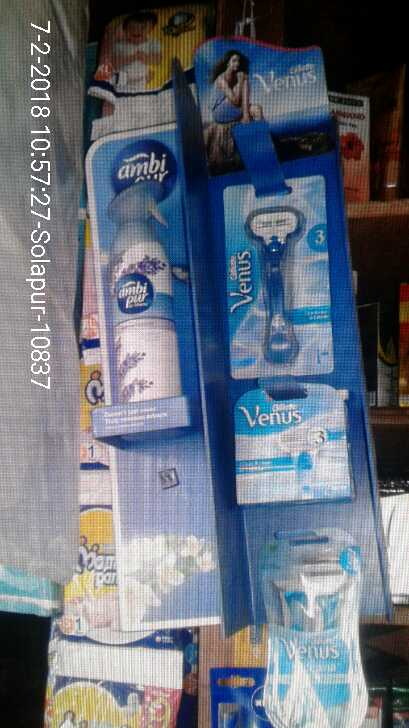beauty: (222, 186, 333, 376), (268, 534, 369, 719), (231, 389, 355, 507)
home: (97, 182, 186, 396)
